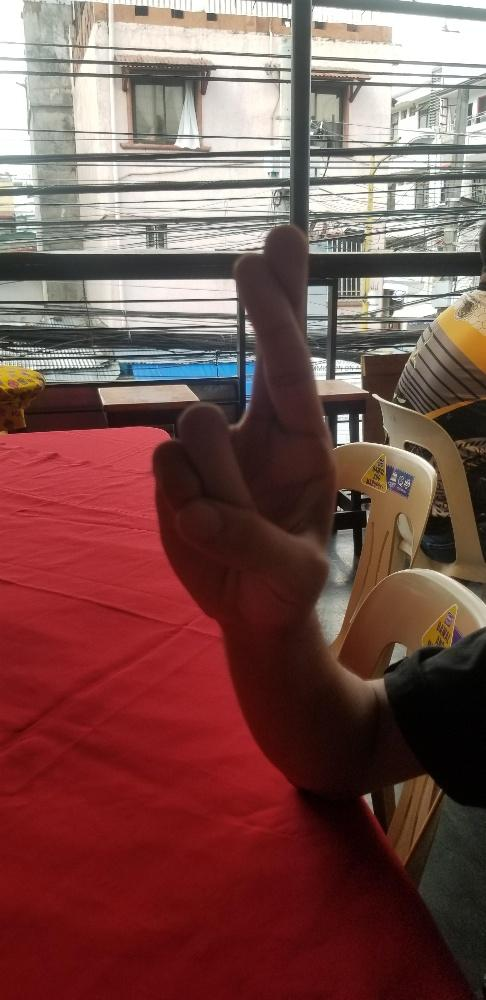r: (145, 217, 340, 631)
